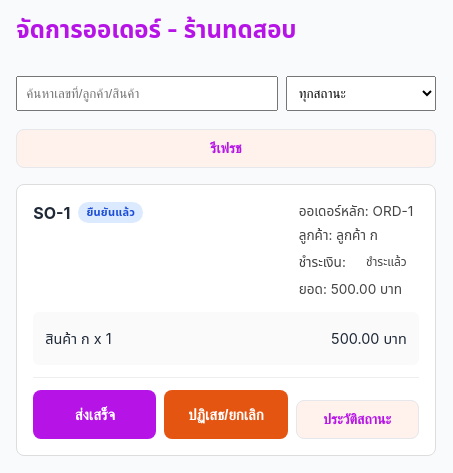
Test: SellerOrders — two-step store workflow › surfaces an error and re-fetches when a deliver hop is rejected by the backend
Expected: the text "SO-1" is shown, [33,201,70,225]
Step 1. Click the button "ส่งเสร็จ" → [95, 415], box [33,390,156,439]
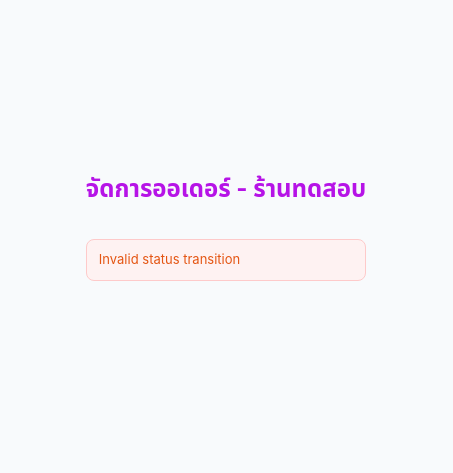
Expected: the text "Invalid status transition" is shown, [86,239,366,281]
